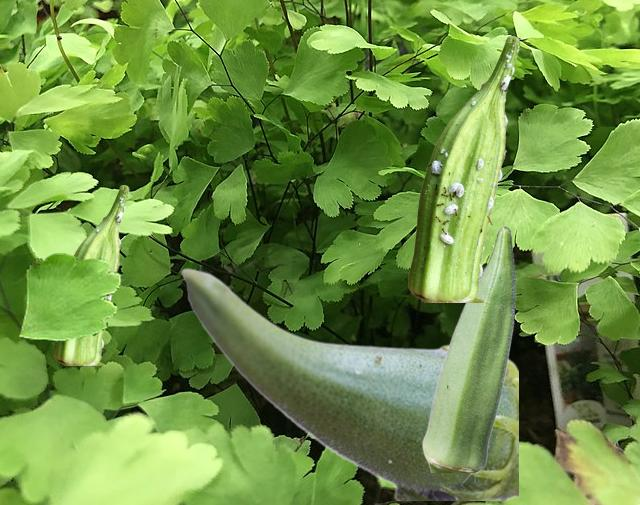okra: (180, 267, 517, 499), (408, 36, 519, 301), (422, 226, 515, 471), (53, 185, 128, 364)
